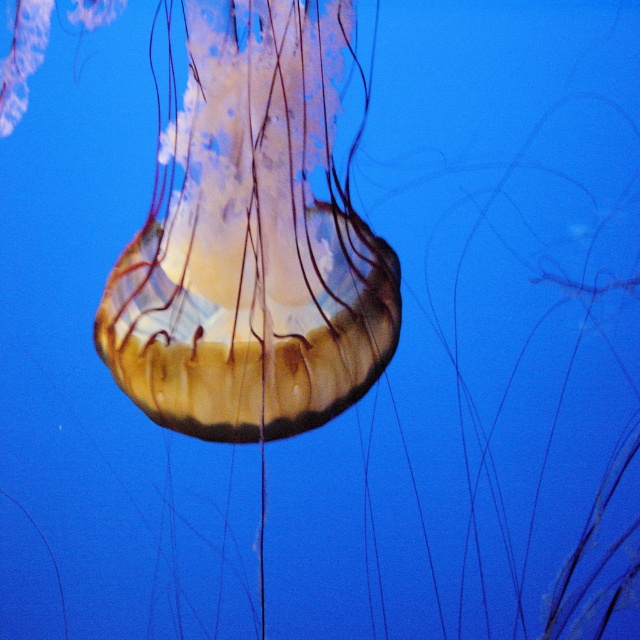Jellyfish: (91, 0, 402, 444)
